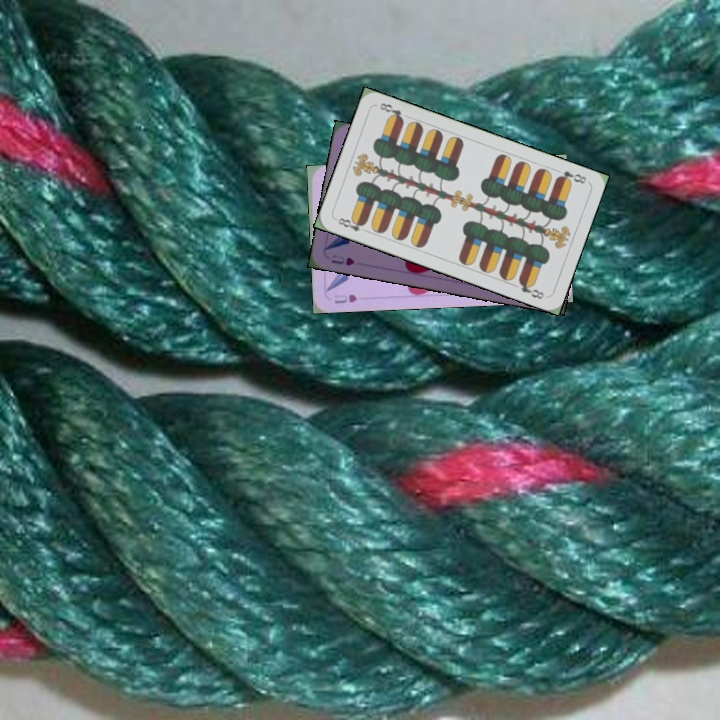E8: (332, 213, 371, 235), (552, 166, 589, 187)
HU: (327, 250, 357, 268), (330, 290, 359, 306)
